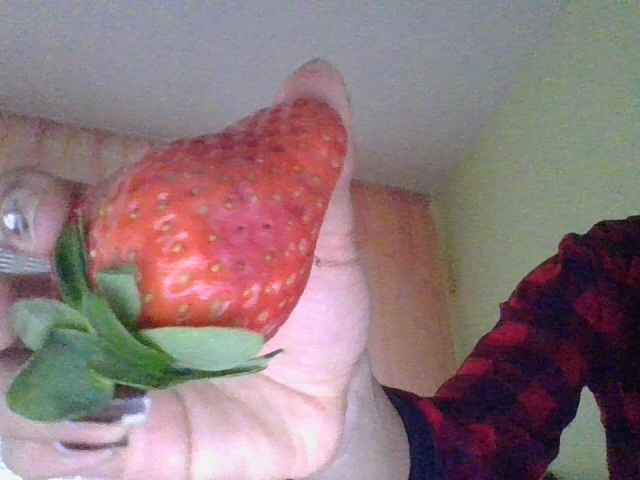ripe: (60, 92, 349, 401)
